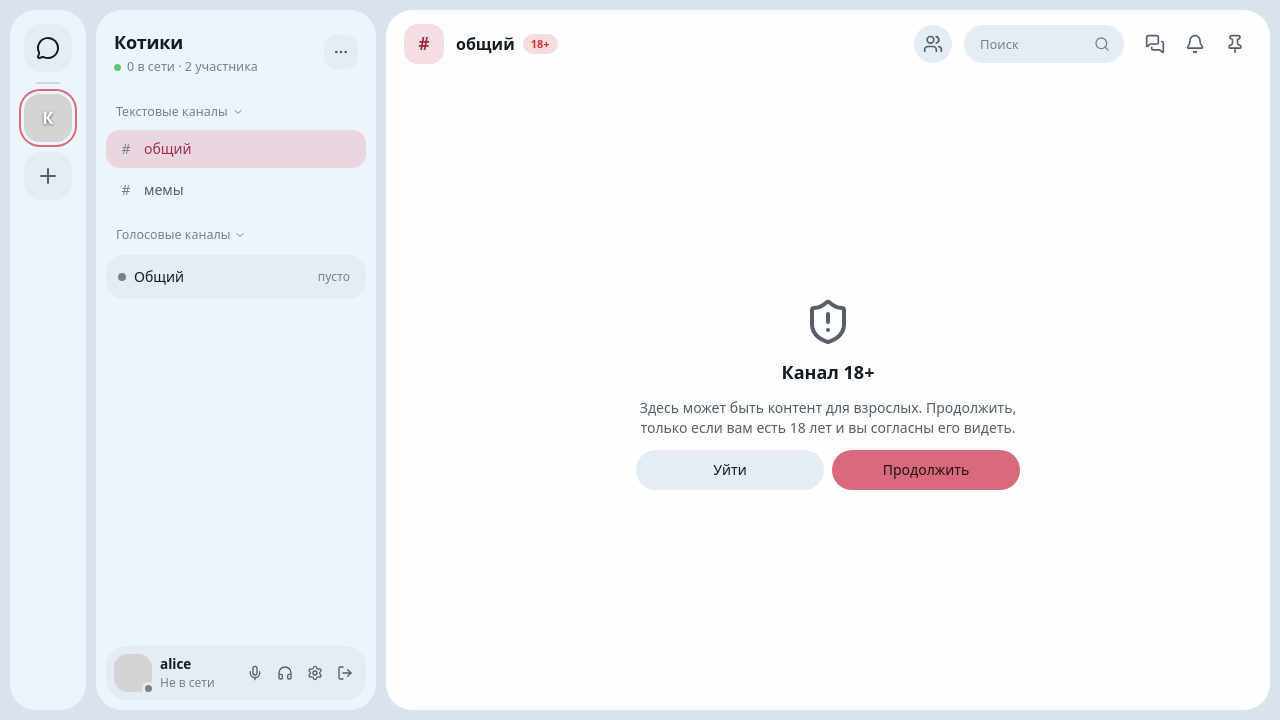
Test case: NSFW channels › asks before showing the channel, once
Click the button "Продолжить".
click(926, 470)  # box left=832, top=450, right=1020, bottom=490
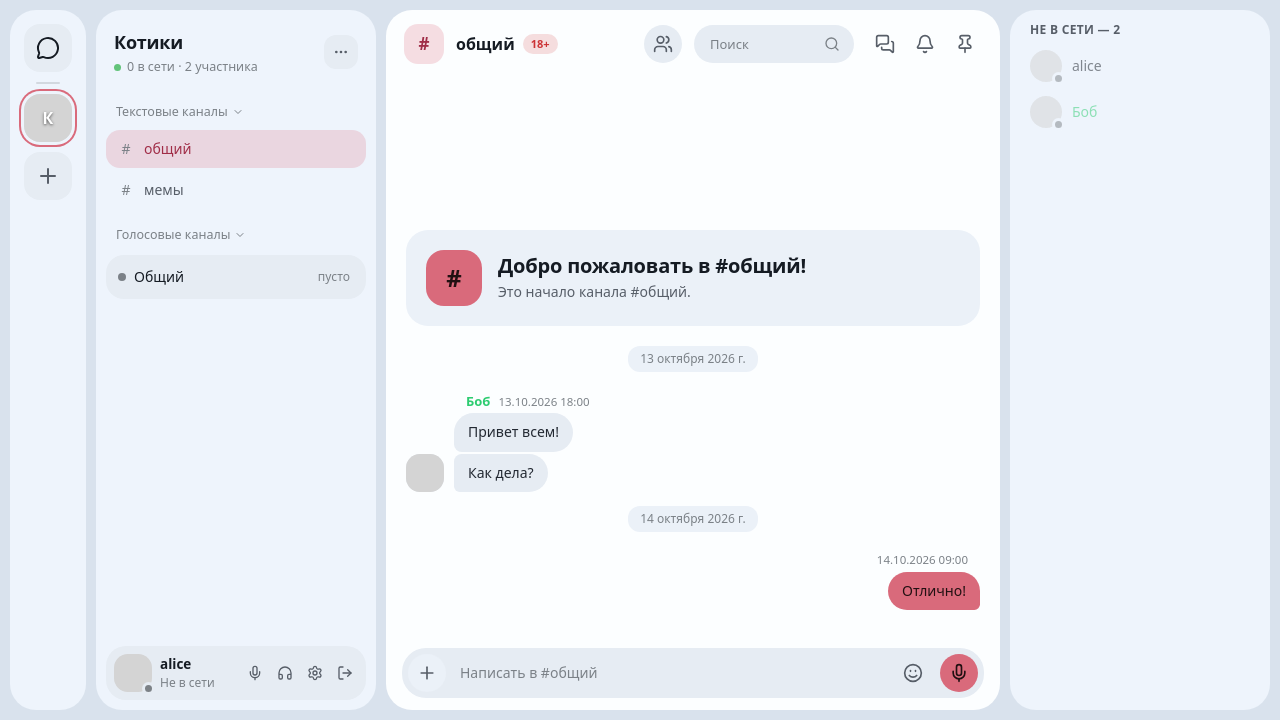
Now the list named "Сообщения в #общий" is shown, box left=386, top=346, right=1000, bottom=628
